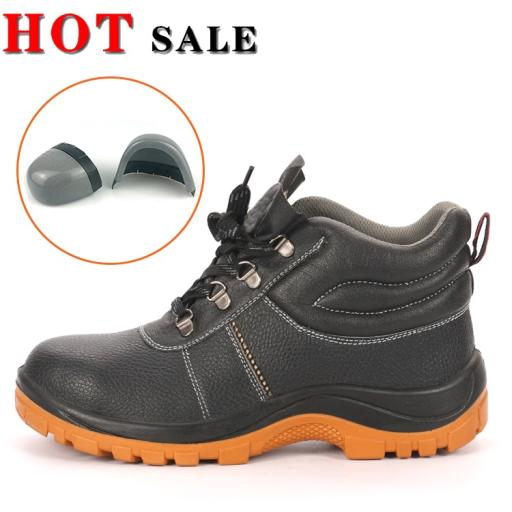safety_boots: (2, 268, 512, 464)
